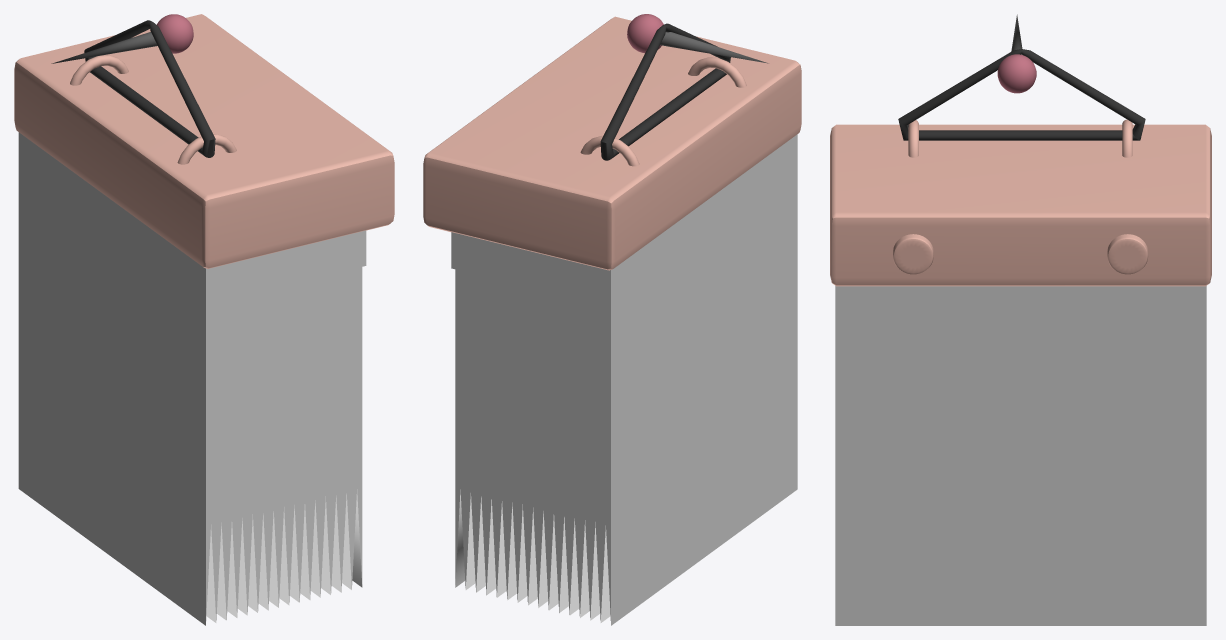
Rendered from calendar.fbx.
3 renders of one model, left to right at view 1: azimuth 30°, elevation 25°; view 2: azimuth 150°, elevation 25°; view 3: azimuth 270°, elevation 25°, orthographic.
Visible parts, largest first — view 1: calendar; view 2: calendar; view 3: calendar.
Part boxes in pixels (x1,y1,x2,y2): calendar: [14, 14, 394, 625]; calendar: [423, 14, 801, 625]; calendar: [830, 14, 1211, 625].
Size of the model in its own units: 2.56 by 4.93 by 3.26.
